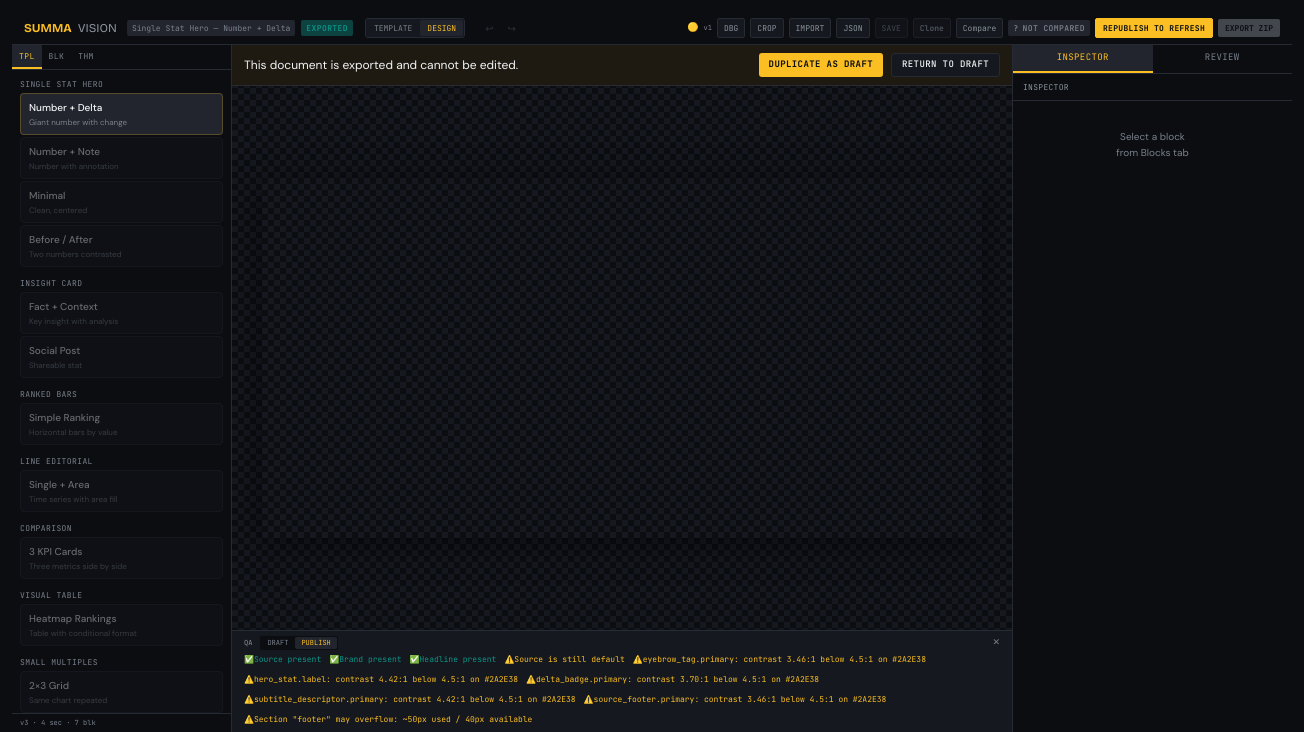
Test: PR-09 Scenario 4 — Reasons tooltip i18n coverage › renders i18n label for reason: source_hash_changed
Click the button with test id "compare-button": (980, 28) [956,18,1003,38]
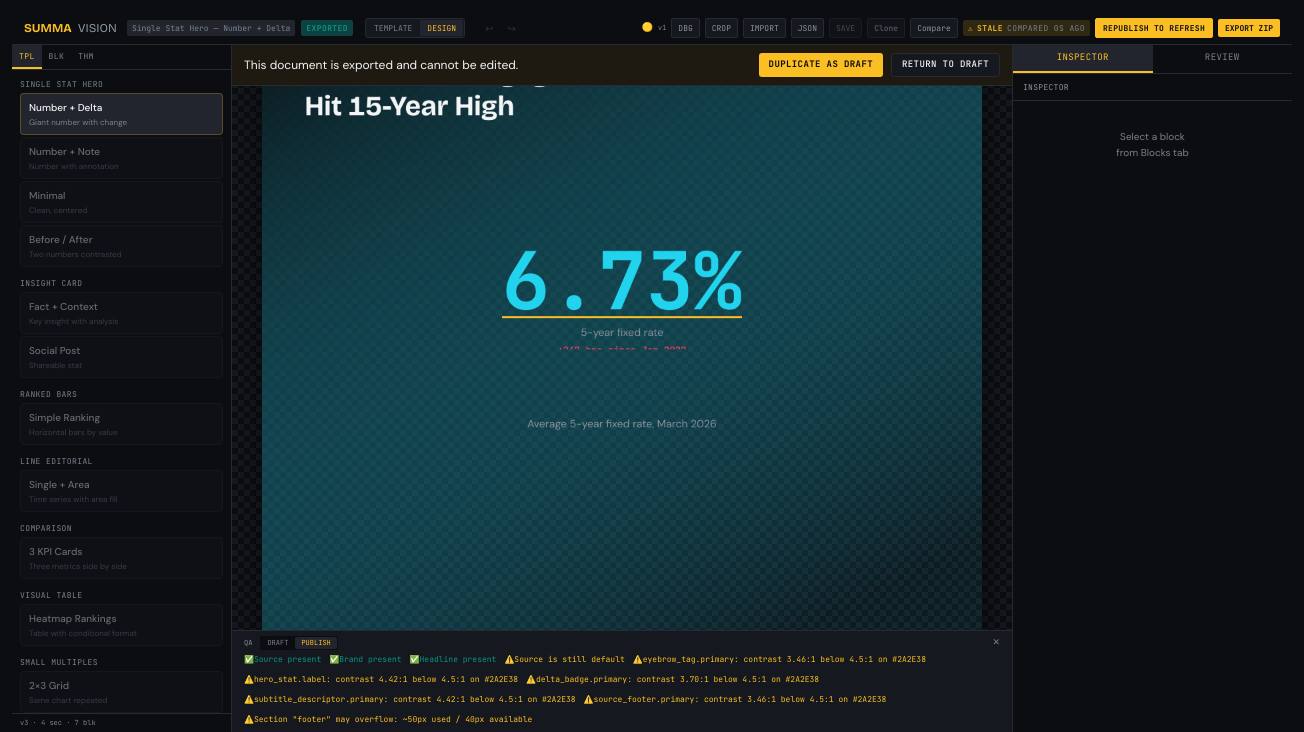
Hover over the element with test id "compare-badge-wrapper": (1026, 28) [963,20,1090,36]
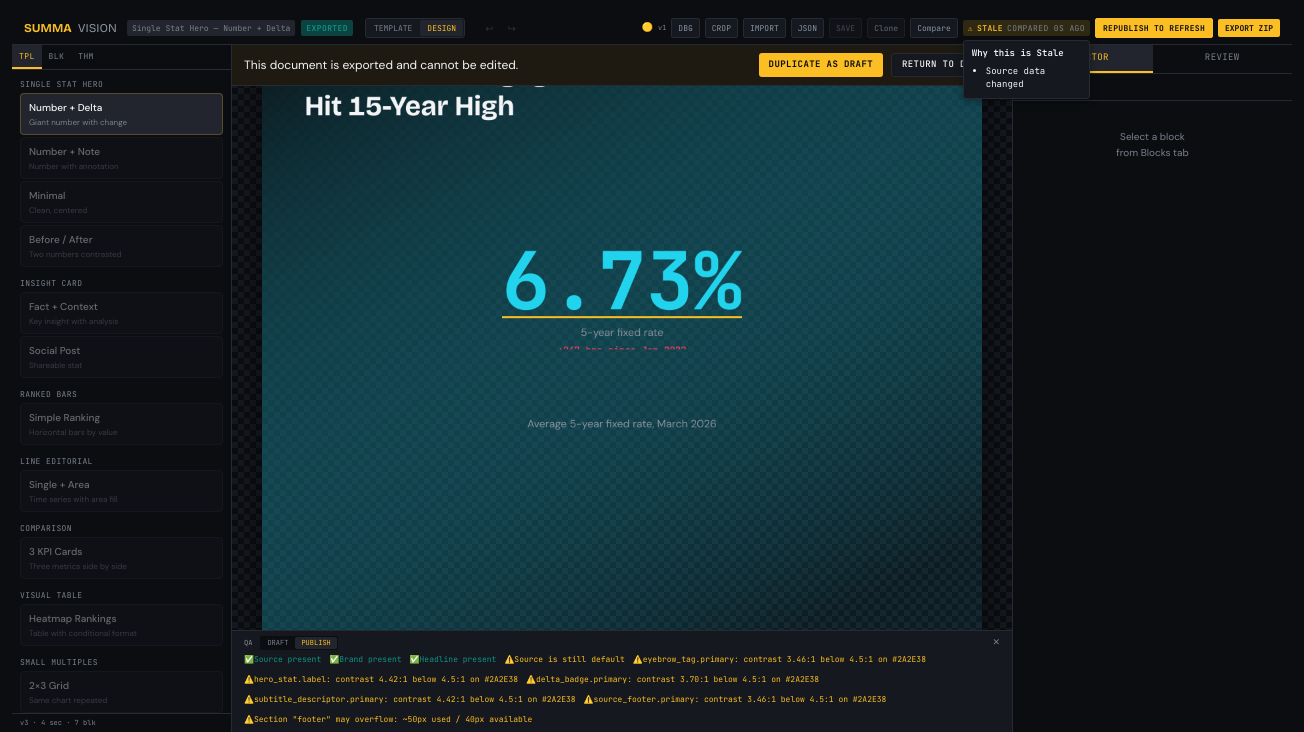
Expected: the list item "Source data changed" is shown, [986,64,1045,90]
